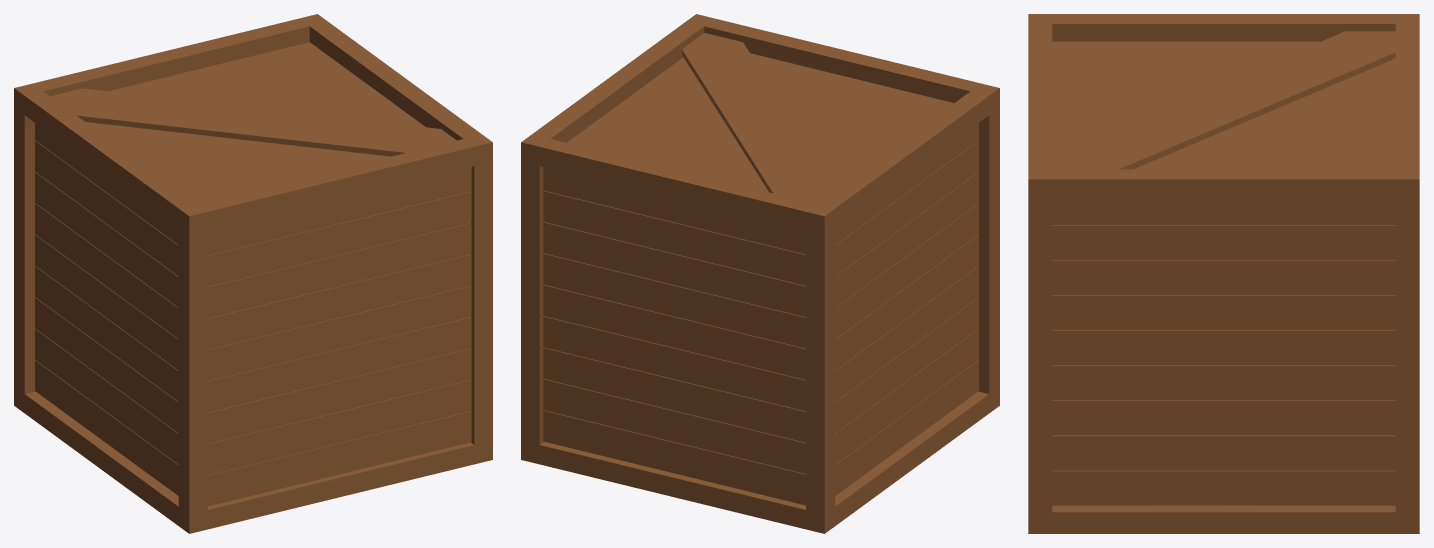
The model's file is Crate.fbx.
3 views of the same model, side by side, from view 1: azimuth 30°, elevation 25°; view 2: azimuth 150°, elevation 25°; view 3: azimuth 270°, elevation 25° (orthographic). The views are drawn at different scales.
Visible parts, largest first — view 1: Crate; view 2: Crate; view 3: Crate.
Part boxes in pixels (box(x1,y1,x2,y2)): Crate: box(14, 14, 492, 533); Crate: box(521, 14, 999, 533); Crate: box(1028, 14, 1419, 533).
Bounding box in the file's own units: 80 × 80 × 80.
